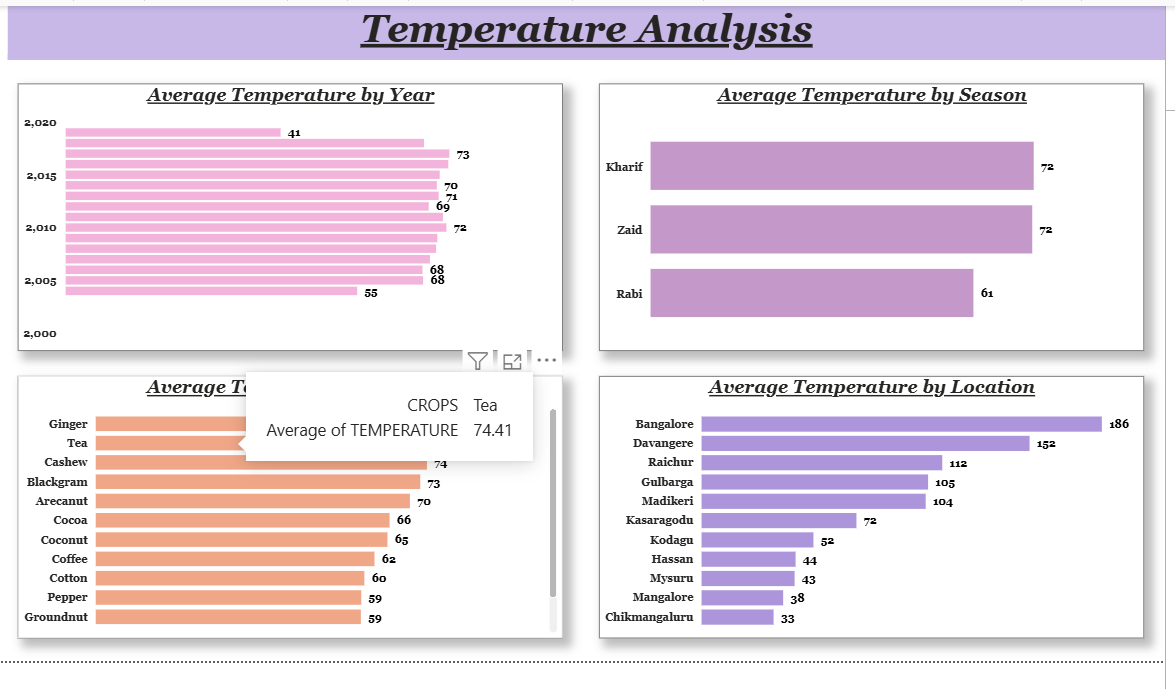

The dashboard page shown, as its layout file describes it:
{"tool":"powerbi","page":{"name":"Temperature  Analysis","canvas":[1280,720],"ordinal":1},"visuals":[{"type":"shape","title":"Temperature Analysis","box":[9.6,0,1270.7,59],"z":0},{"type":"barChart","title":"Average Temperature by Year","fields":{"Y":["Avg(AGRICULTURE.TEMPERATURE)"],"Category":["AGRICULTURE.YEAR"]},"box":[20.6,85.1,598.3,293.7],"z":1000},{"type":"barChart","title":"Average Temperature by Season","fields":{"Y":["Avg(AGRICULTURE.TEMPERATURE)"],"Category":["AGRICULTURE.SEASON"]},"box":[658.7,85.1,598.3,293.7],"z":2000},{"type":"barChart","title":"Average Temperature by Crop","fields":{"Category":["AGRICULTURE.CROPS"],"Y":["Avg(AGRICULTURE.TEMPERATURE)"]},"box":[20.6,406.2,598.3,288.2],"z":3000},{"type":"barChart","title":"Average Temperature by Location","fields":{"Y":["Avg(AGRICULTURE.TEMPERATURE)"],"Category":["AGRICULTURE.LOCATION"]},"box":[658.7,406.2,598.3,288.2],"z":4000}]}

Visuals, with their boxes on the page's 1280x720 design canvas (x1, y1, x2, y2). These are canvas units, not pixel positions in the 1175x689 screenshot, which may show the page scaled, cropped or inside an application window:
"Temperature Analysis" shape: 10,0,1280,59
"Average Temperature by Year" barChart: 21,85,619,379
"Average Temperature by Season" barChart: 659,85,1257,379
"Average Temperature by Crop" barChart: 21,406,619,694
"Average Temperature by Location" barChart: 659,406,1257,694
